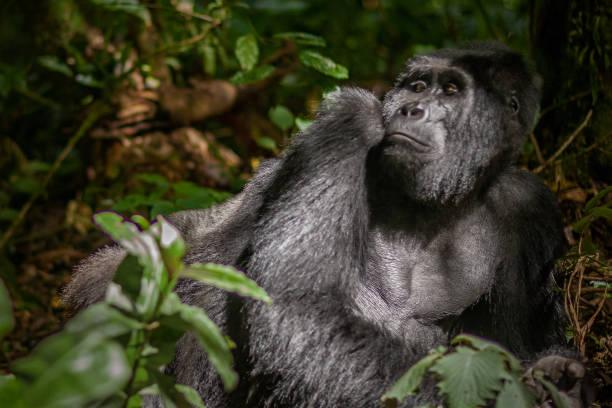goriile_montagne: (98, 20, 573, 408)
